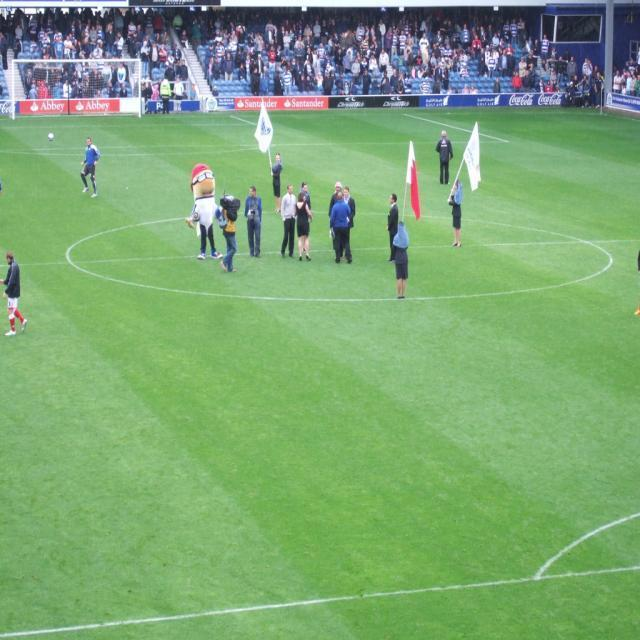ball: (45, 132, 56, 141)
